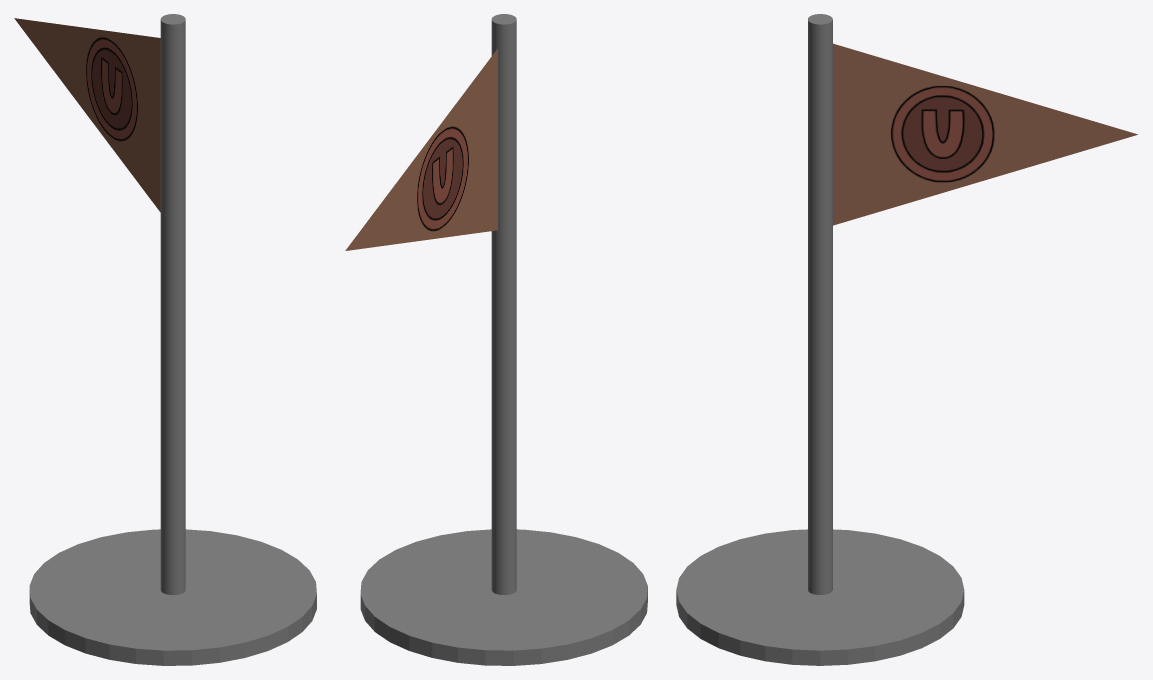
File: checkpoint.glb
The picture shows the model from 3 angles, left to right: view 1: azimuth 30°, elevation 25°; view 2: azimuth 150°, elevation 25°; view 3: azimuth 270°, elevation 25°; orthographic projection.
Visible parts, largest first — view 1: Cylinder, Cylinder.001, Circle; view 2: Cylinder, Circle, Cylinder.001; view 3: Cylinder, Circle, Cylinder.001.
Part boxes in pixels (x1,y1,x2,y2): Cylinder: [29, 529, 316, 665]; Cylinder.001: [160, 14, 185, 595]; Circle: [14, 18, 160, 212]; Cylinder: [360, 529, 647, 665]; Circle: [345, 48, 497, 250]; Cylinder.001: [491, 14, 516, 595]; Cylinder: [676, 529, 964, 665]; Circle: [833, 43, 1137, 225]; Cylinder.001: [808, 14, 832, 594].
Bounding box in the file's own units: 1.34 × 3.01 × 2.15.
Materials: 2 (1 with a texture image).
